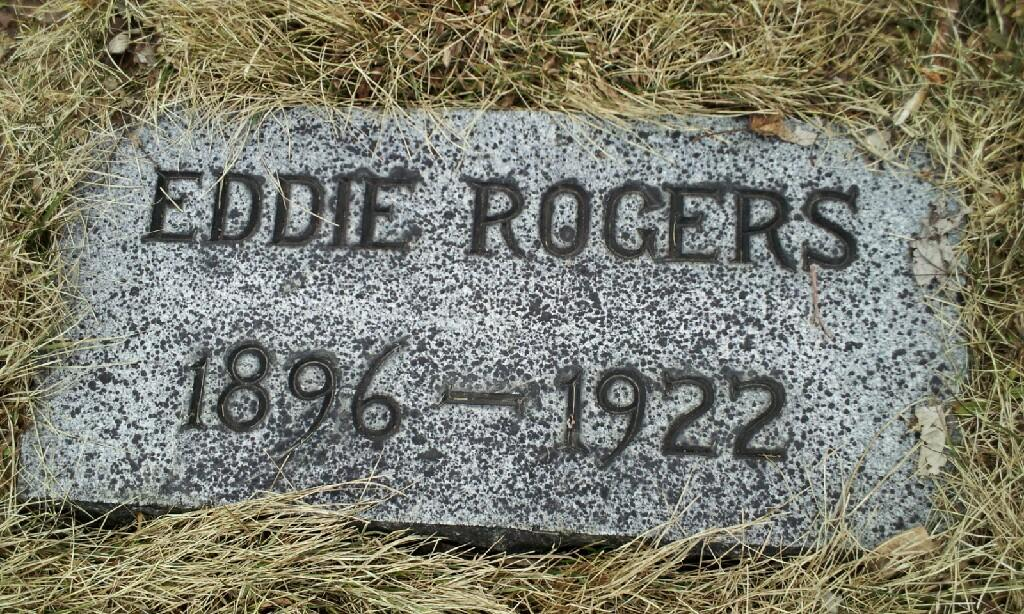flat: (14, 93, 971, 562)
